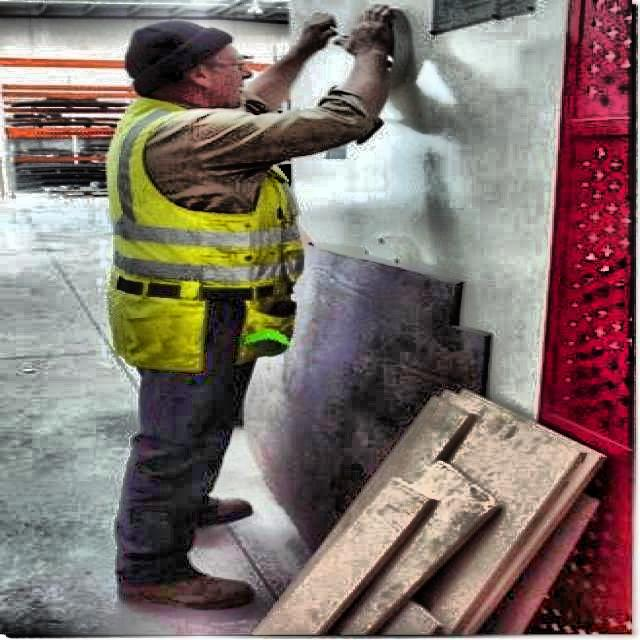safety_jacket: (103, 107, 300, 306)
